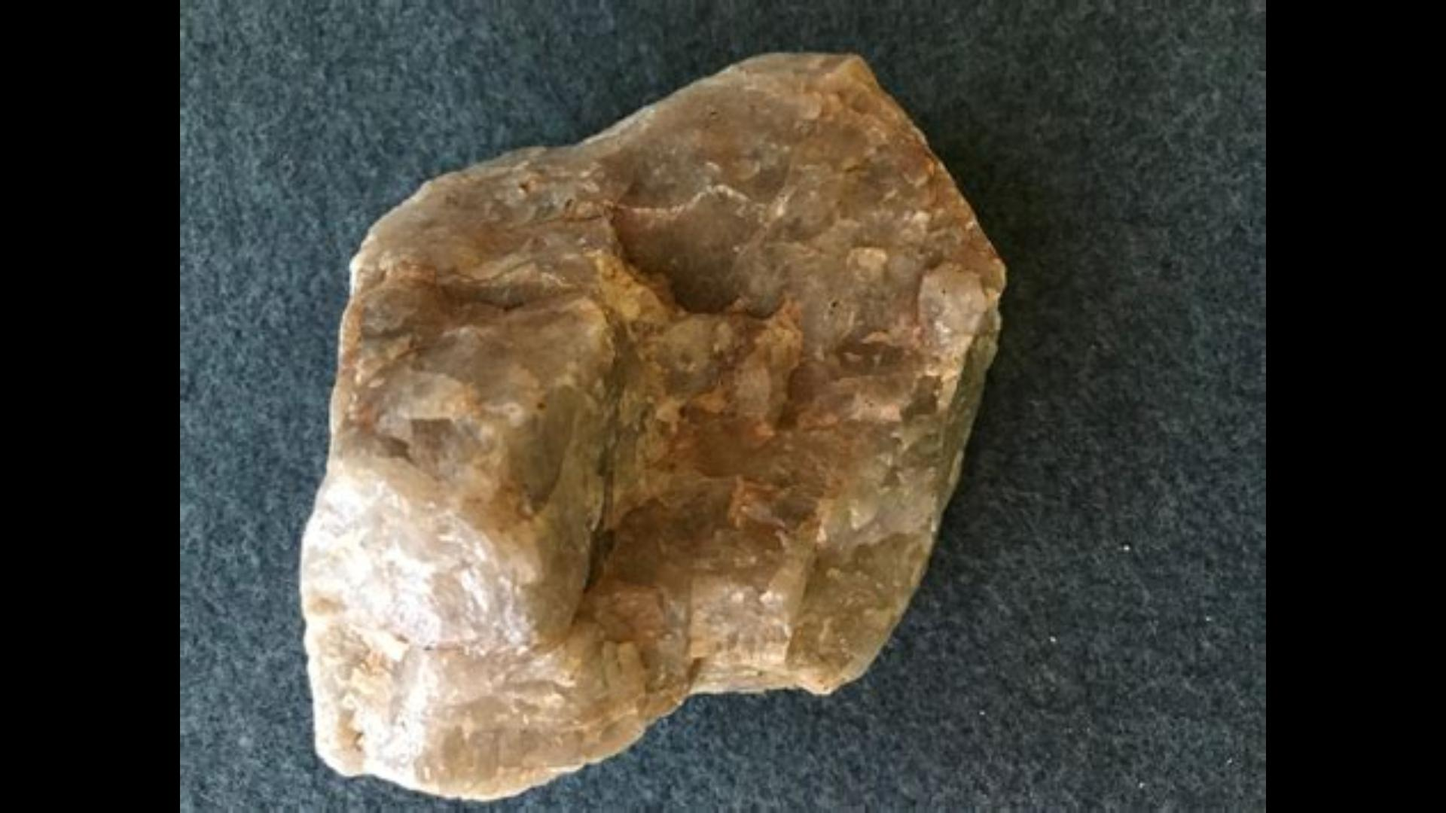rock: (304, 60, 1000, 792)
